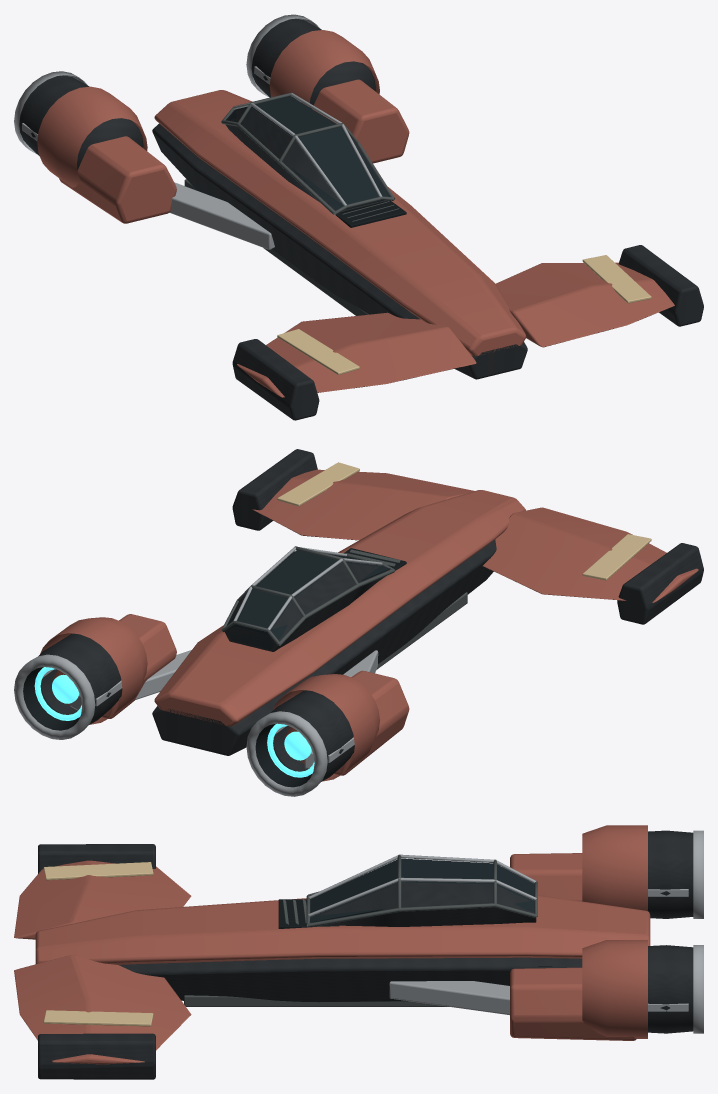
File: vise.glb
3 views of the same model, one above another, from view 1: azimuth 30°, elevation 25°; view 2: azimuth 150°, elevation 25°; view 3: azimuth 270°, elevation 25° (orthographic).
Parts seen in each view (by area): view 1: vise_Ceramic_Geometry, vise_carbon_Geometry, vise_metal_Geometry, vise_glass_Geometry, vise_accent_Geometry, vise_edge_Geometry, vise_vent_Geometry; view 2: vise_Ceramic_Geometry, vise_carbon_Geometry, vise_metal_Geometry, vise_glass_Geometry, vise_edge_Geometry, vise_accent_Geometry, vise_vent_Geometry, vise_Ion_Geometry; view 3: vise_Ceramic_Geometry, vise_carbon_Geometry, vise_metal_Geometry, vise_glass_Geometry, vise_edge_Geometry, vise_accent_Geometry, vise_vent_Geometry.
Part boxes in pixels (left/top/right/bottom): vise_Ceramic_Geometry: left=37, top=30, right=674, bottom=397; vise_carbon_Geometry: left=19, top=18, right=703, bottom=420; vise_metal_Geometry: left=14, top=14, right=382, bottom=249; vise_glass_Geometry: left=226, top=96, right=389, bottom=210; vise_accent_Geometry: left=277, top=255, right=651, bottom=374; vise_edge_Geometry: left=184, top=92, right=399, bottom=315; vise_vent_Geometry: left=336, top=200, right=406, bottom=227; vise_Ceramic_Geometry: left=40, top=469, right=698, bottom=781; vise_carbon_Geometry: left=38, top=449, right=703, bottom=781; vise_metal_Geometry: left=14, top=547, right=382, bottom=796; vise_glass_Geometry: left=226, top=550, right=390, bottom=649; vise_edge_Geometry: left=221, top=546, right=467, bottom=669; vise_accent_Geometry: left=277, top=462, right=651, bottom=580; vise_vent_Geometry: left=23, top=548, right=406, bottom=787; vise_Ion_Geometry: left=34, top=667, right=314, bottom=777; vise_Ceramic_Geometry: left=14, top=825, right=650, bottom=1064; vise_carbon_Geometry: left=38, top=830, right=693, bottom=1079; vise_metal_Geometry: left=308, top=830, right=703, bottom=1033; vise_glass_Geometry: left=309, top=858, right=534, bottom=922; vise_edge_Geometry: left=184, top=854, right=537, bottom=1006; vise_accent_Geometry: left=43, top=862, right=153, bottom=1026; vise_vent_Geometry: left=278, top=899, right=338, bottom=928.
Bounding box in the file's own units: 4.2 × 1.14 × 5.9.
Materials: 9 (3 with a texture image).
